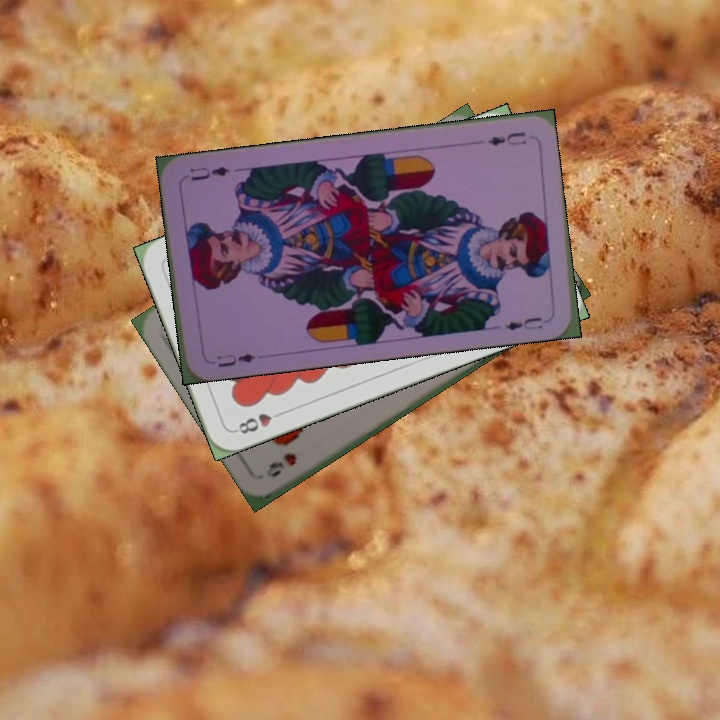EU: (213, 349, 258, 370), (484, 127, 529, 148)
H8: (231, 407, 287, 437)
H9: (262, 448, 299, 481)
